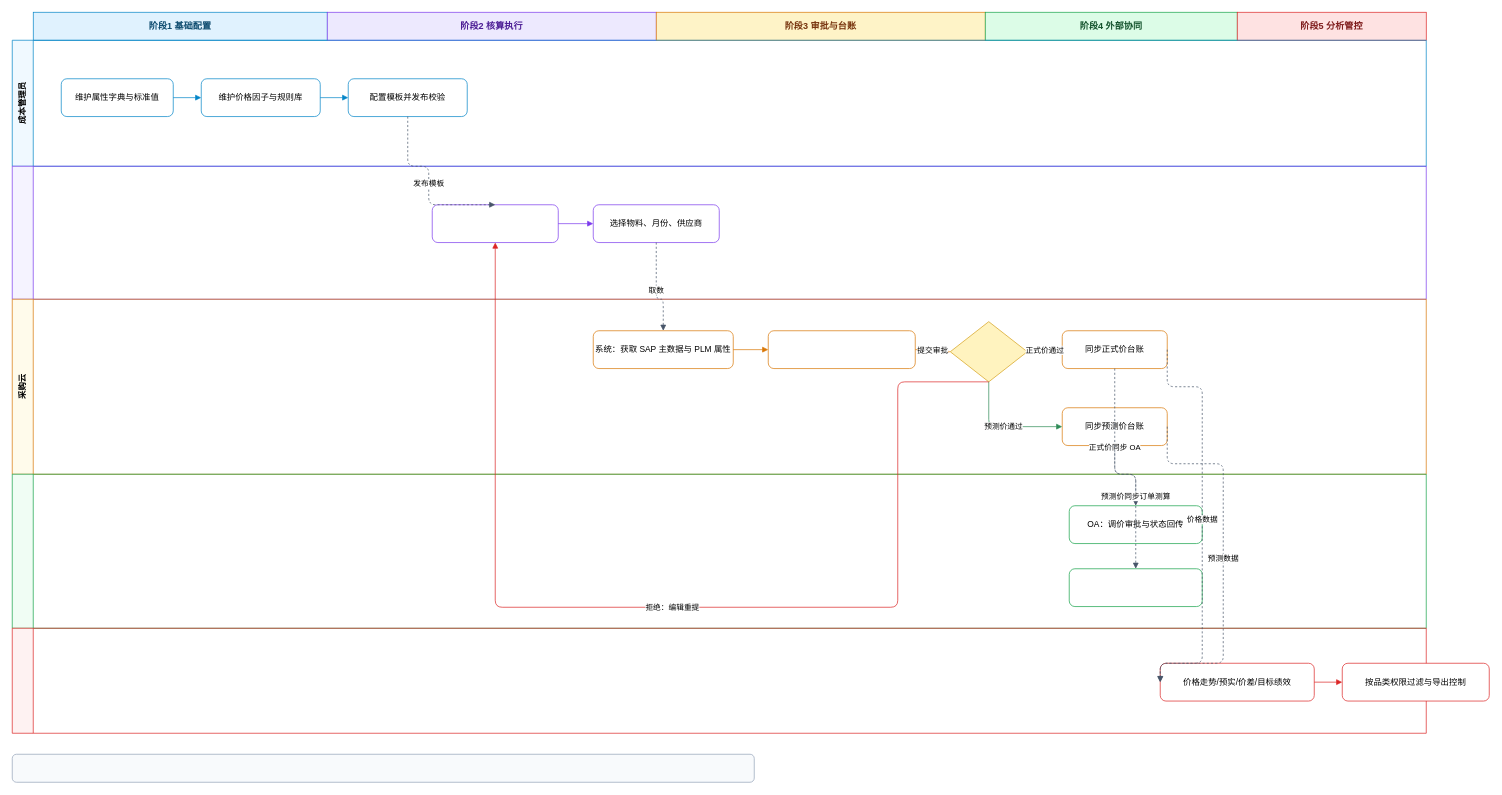
Some shapes in this 1502 by 795 pixel diagram are drawn without their labels. The box of each missing label's shape, as (x1, y1, x2, y2) in pixels:
创建正式价/预测价核算单: (432, 204, 558, 243)
图例：蓝色=基础配置；紫色=业务发起；橙色=采购云处理；绿色=外部系统；红色=分析管控/异常回退；虚线=系统间同步: (12, 754, 754, 782)
外部系统: (12, 474, 1426, 628)
管理层/品类负责人: (12, 628, 1426, 733)
系统：匹配规则并展示计算过程: (768, 330, 915, 369)
订单测算平台：接收预测价: (1069, 568, 1202, 607)
采购云审批通过？: (950, 321, 1027, 382)
采购员: (12, 166, 1426, 299)
